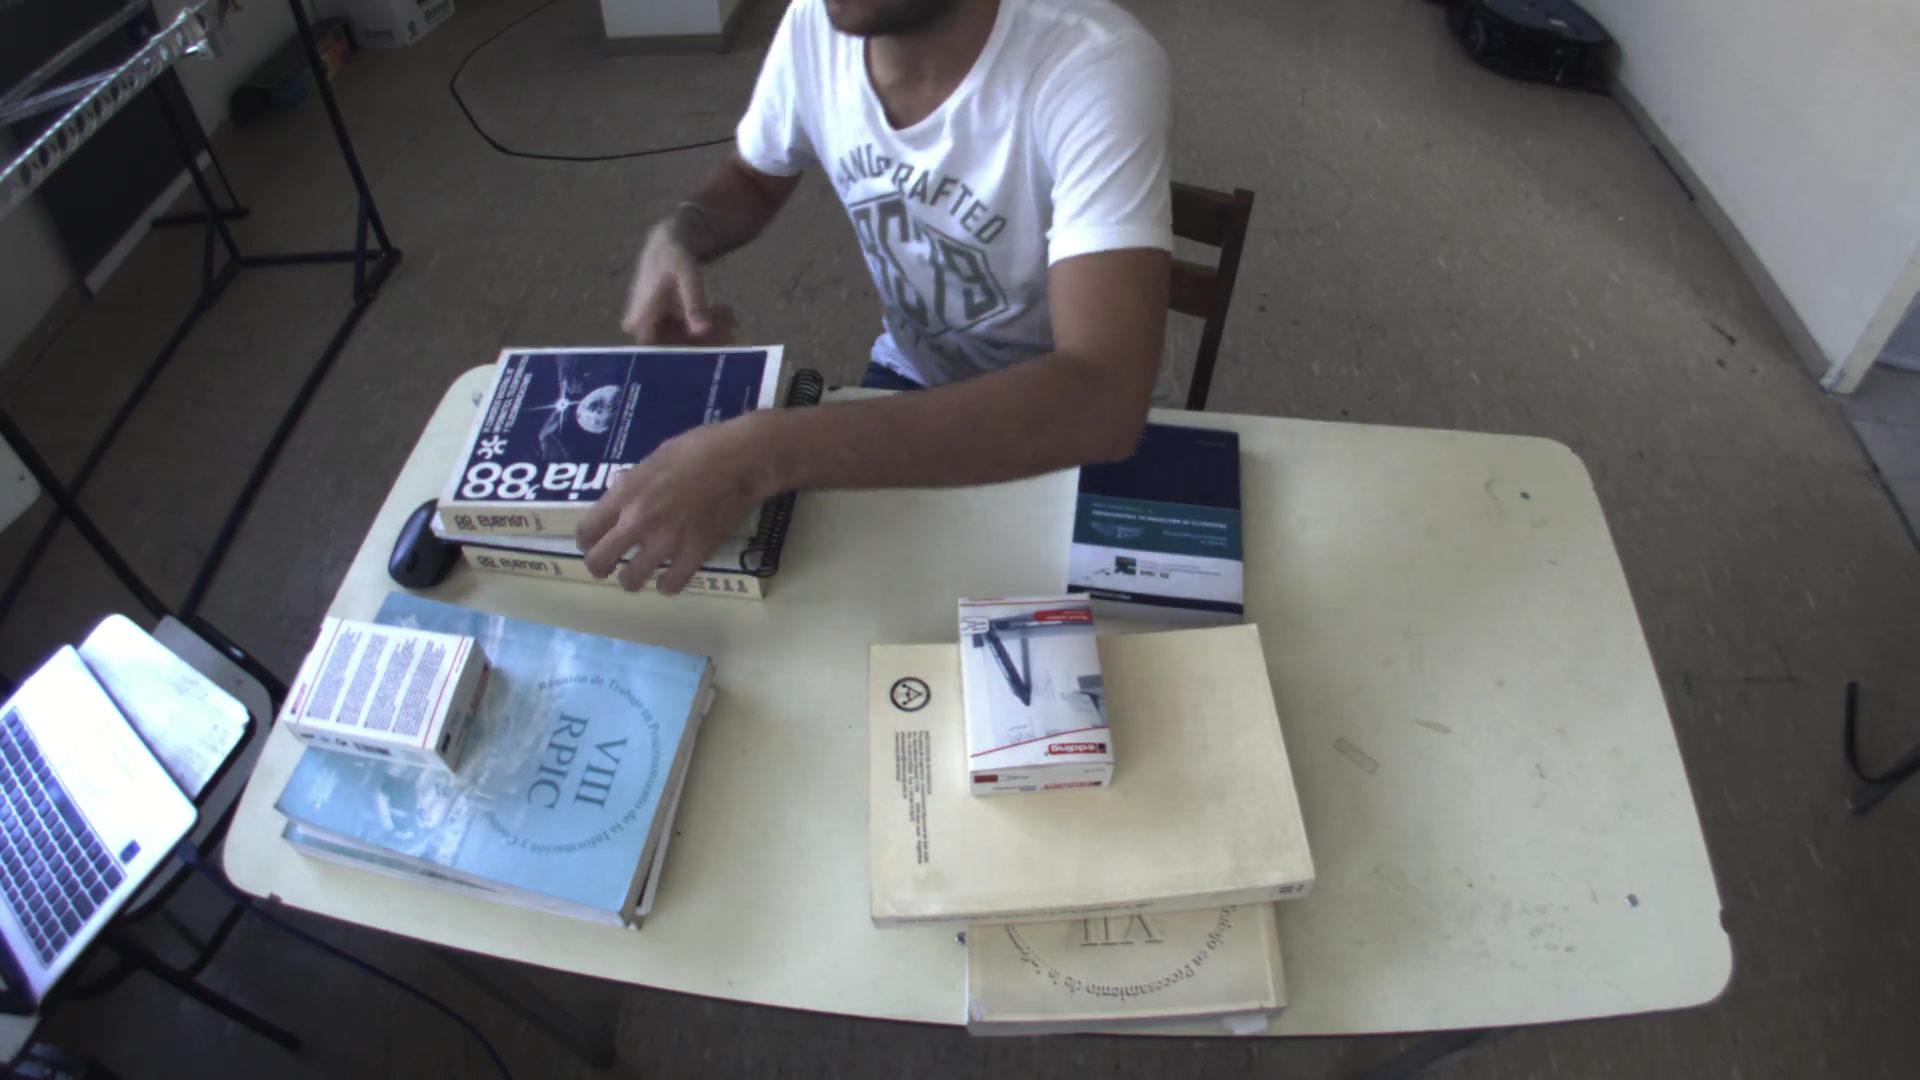hand: (568, 421, 760, 599), (607, 210, 719, 344)
